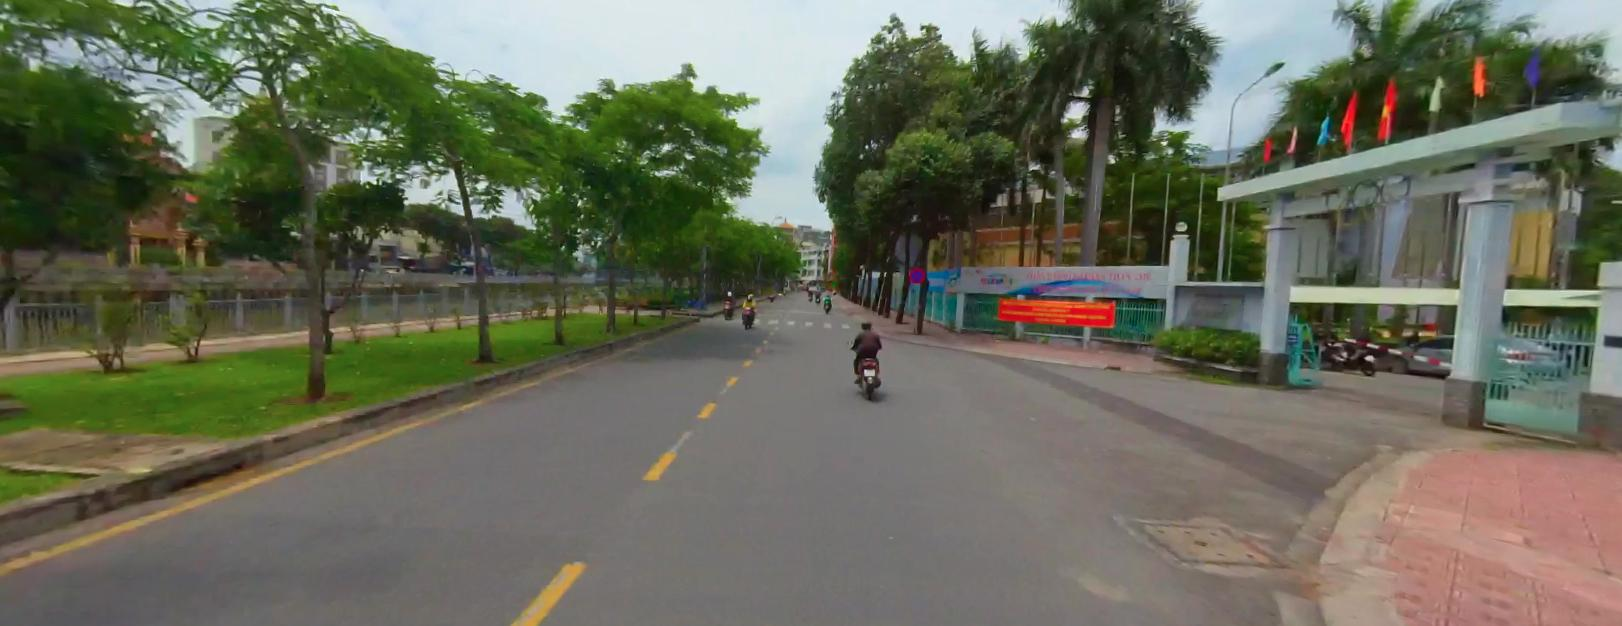Cam dung va do: (908, 266, 924, 282)
